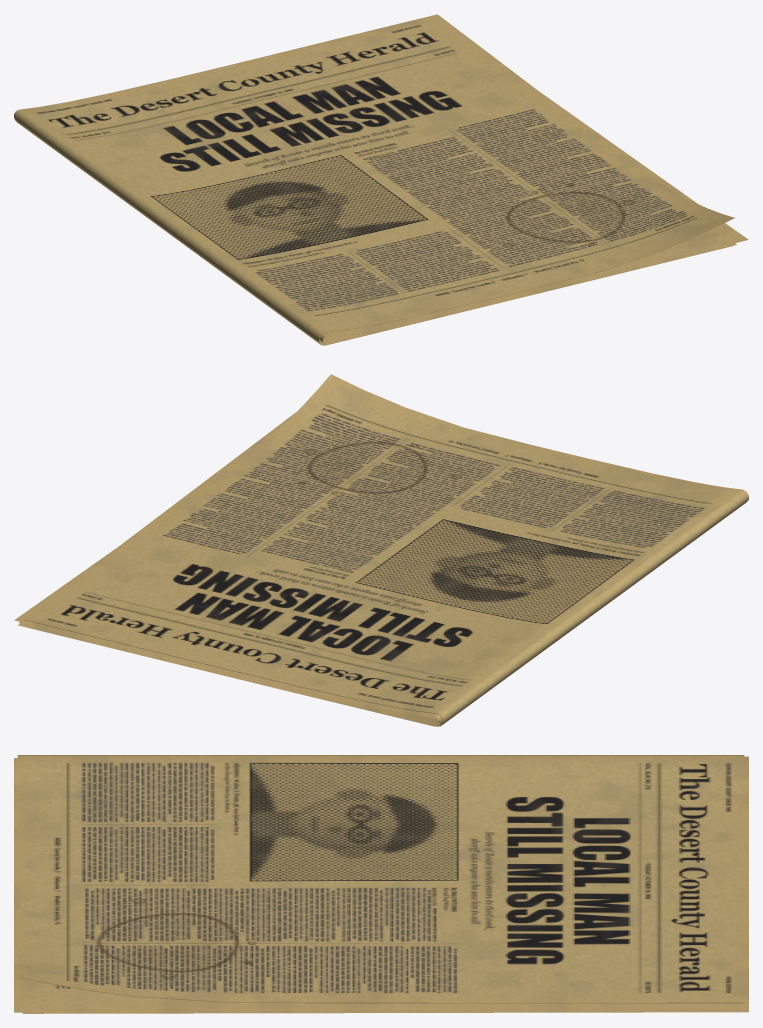
File: SM_Motel_Newspaper.obj
3 views of the same model, one above another, from view 1: azimuth 30°, elevation 25°; view 2: azimuth 150°, elevation 25°; view 3: azimuth 270°, elevation 25° (orthographic). The views are drawn at different scales.
Parts seen in each view (by area): view 1: SM_Motel_Newspaper; view 2: SM_Motel_Newspaper; view 3: SM_Motel_Newspaper.
Boxes of the visible parts, x1,y1,x2,y2 form: SM_Motel_Newspaper: [14, 14, 748, 345]; SM_Motel_Newspaper: [14, 374, 748, 726]; SM_Motel_Newspaper: [14, 755, 748, 1013].
Bounding box in the file's own units: 0.3088 × 0.0192 × 0.3845.
Materials: 2 (2 with a texture image).
